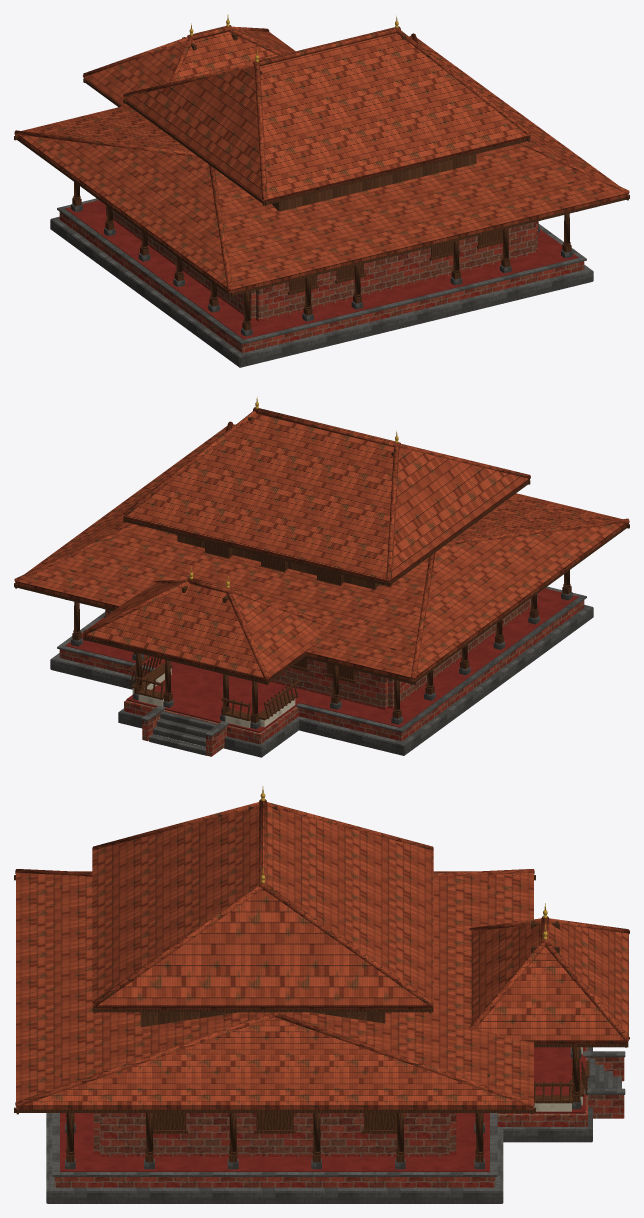
File: mana_nalukettu.glb
3 views of the same model, one above another, from view 1: azimuth 30°, elevation 25°; view 2: azimuth 150°, elevation 25°; view 3: azimuth 270°, elevation 25° (orthographic). The views are drawn at different scales.
Parts seen in each view (by area): view 1: mana_nalukettu; view 2: mana_nalukettu; view 3: mana_nalukettu.
Part boxes in pixels (x1,y1,x2,y2): mana_nalukettu: (14, 14, 629, 367); mana_nalukettu: (14, 396, 629, 757); mana_nalukettu: (14, 786, 629, 1203).
Size of the model in its own units: 18.7 by 10.09 by 20.62.
8 materials, 8 textured.
